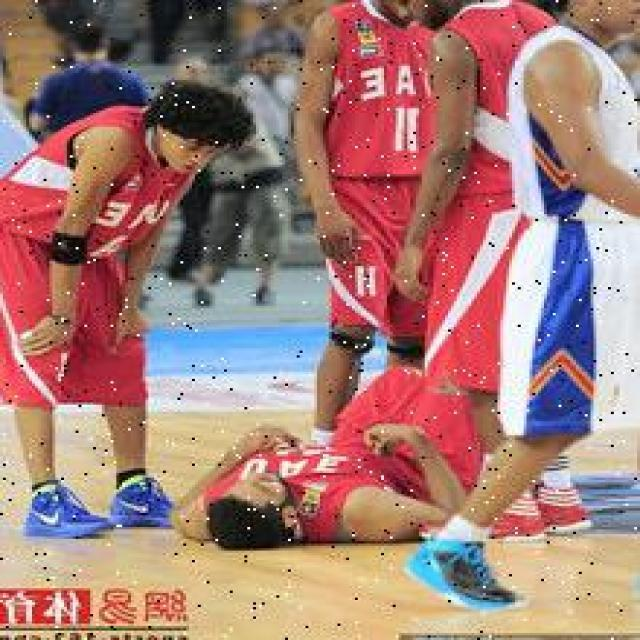fall: (186, 370, 471, 544)
